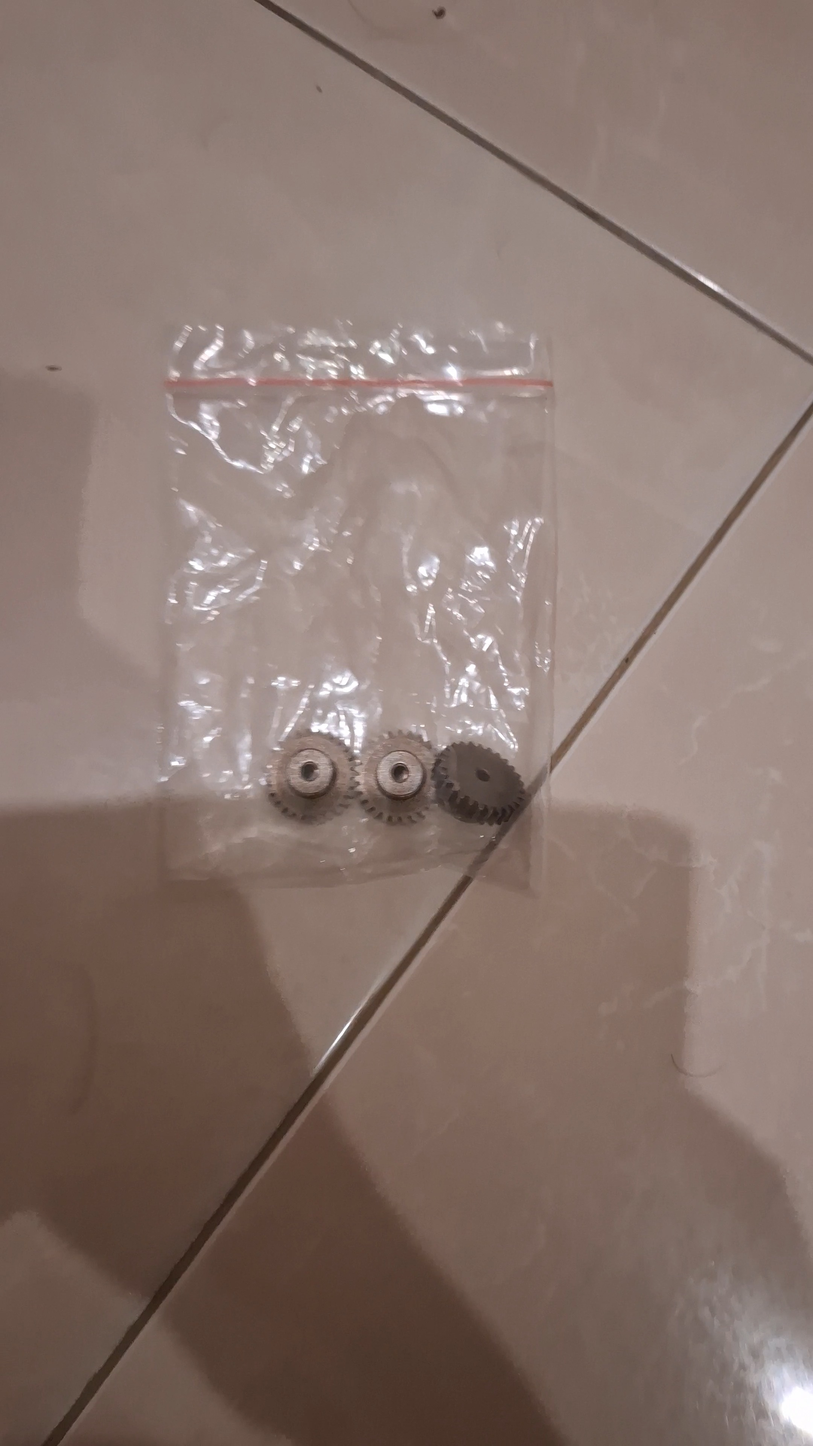spur gear: (429, 737, 528, 825), (265, 730, 358, 823), (355, 730, 438, 822)
